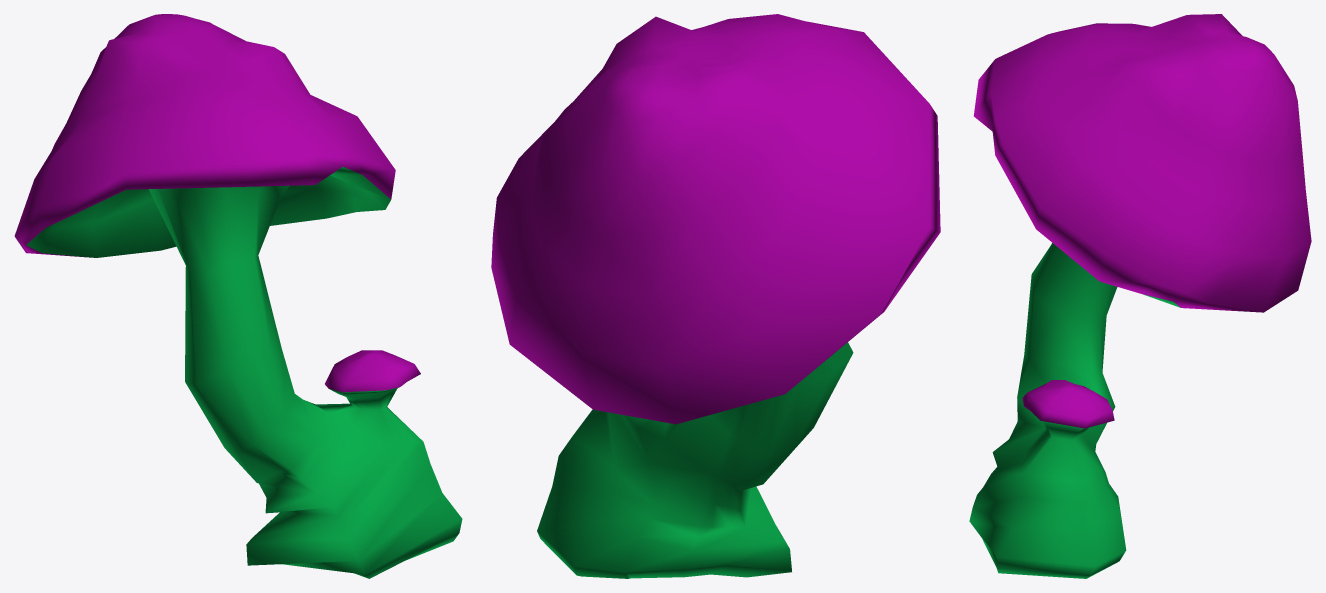
File: HongoDecorativo1_LOWPOLY.fbx
The picture shows the model from 3 angles, left to right: view 1: azimuth 30°, elevation 25°; view 2: azimuth 150°, elevation 25°; view 3: azimuth 270°, elevation 25°; orthographic projection. The views are drawn at different scales.
Parts seen in each view (by area): view 1: HongoDecorativo1_LOWPOLY:HongoDecorativo2_LOW; view 2: HongoDecorativo1_LOWPOLY:HongoDecorativo2_LOW; view 3: HongoDecorativo1_LOWPOLY:HongoDecorativo2_LOW.
Boxes of the visible parts, <box> form: HongoDecorativo1_LOWPOLY:HongoDecorativo2_LOW: <box>14,14,462,578</box>; HongoDecorativo1_LOWPOLY:HongoDecorativo2_LOW: <box>491,14,940,578</box>; HongoDecorativo1_LOWPOLY:HongoDecorativo2_LOW: <box>969,14,1311,578</box>.
Bounding box in the file's own units: 52.49 × 69.93 × 46.18.
